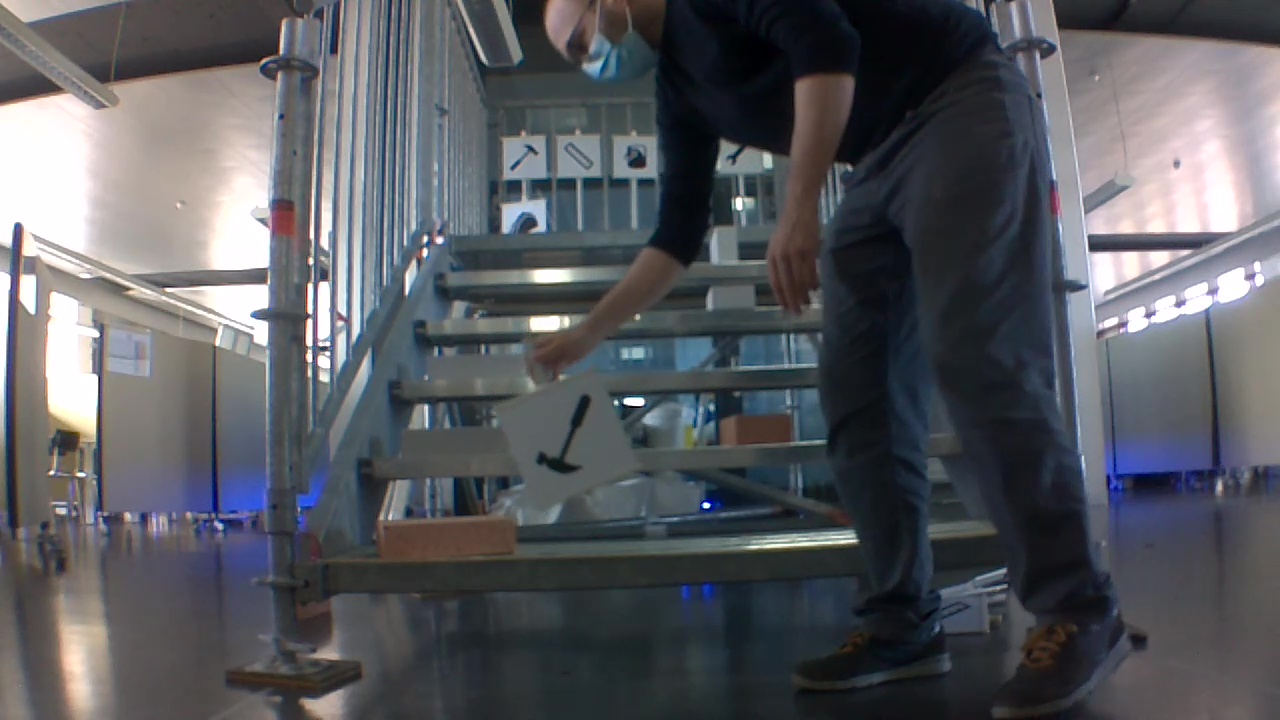brick: (375, 514, 512, 559), (403, 428, 506, 459), (426, 354, 526, 379), (720, 411, 792, 444), (706, 286, 752, 307), (711, 225, 736, 261)
bucket: (618, 141, 649, 170)
hammer: (505, 141, 538, 171)
ruler: (561, 140, 597, 171)
taco: (506, 204, 540, 231)
